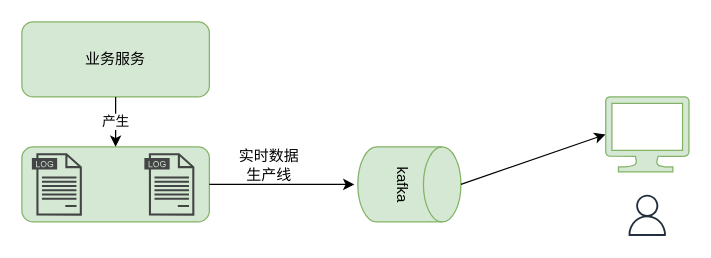
Image size: 711x258. Some labels were removed from this diagram. The box of each missing label's shape, as (x1, y1, x2, y2) in pixels:
日志采集: (21, 146, 209, 222)
烽火台: (604, 96, 689, 172)
